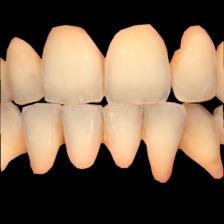cavity: (16, 131, 30, 153), (56, 123, 69, 143), (153, 165, 169, 181), (179, 128, 191, 147), (209, 163, 224, 177), (207, 161, 222, 175), (97, 122, 106, 144), (140, 116, 148, 139), (169, 51, 179, 68), (33, 54, 41, 65)
tooth: (103, 23, 172, 106), (43, 22, 104, 103), (172, 21, 215, 103), (146, 104, 185, 185), (23, 103, 67, 174), (185, 102, 224, 180), (64, 104, 105, 168), (103, 106, 142, 170), (6, 36, 43, 103), (1, 103, 22, 172)
